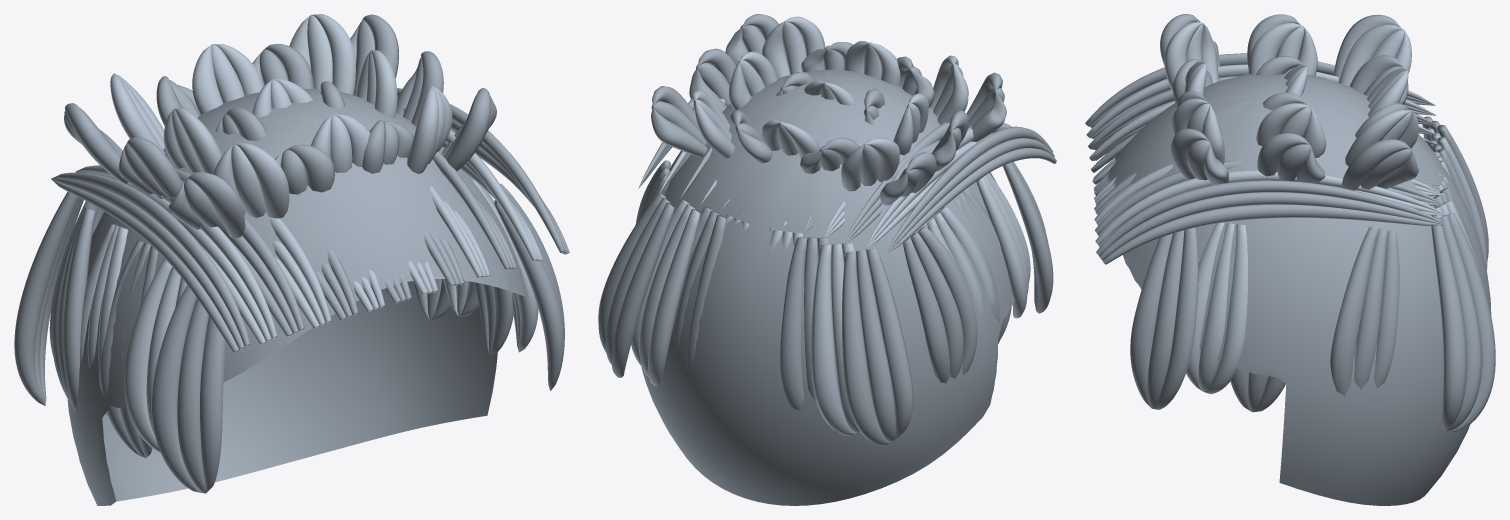
3 renders of one model, left to right at view 1: azimuth 30°, elevation 25°; view 2: azimuth 150°, elevation 25°; view 3: azimuth 270°, elevation 25°, orthographic. The views are drawn at different scales.
Parts seen in each view (by area): view 1: CrownHair_male_ref03, SideHair_-1_0_Strand2, BackHair_00_Strand0, SideHair_-1_0_Strand1, SideHair_-1_1_Strand2, FrontHair_Slick_00_Strand2, SideHair_-1_0_Strand0, SideHair_-1_4_Strand0, SideHair_1_0_Strand2, FrontHair_Slick_00_Strand1, FrontHair_Slick_00_Strand0, CrownHair_Spike_0_1_Strand2 (+55 smaller); view 2: CrownHair_male_ref03, BackHair_00_Strand2, BackHair_01_Strand2, BackHair_00_Strand1, BackHair_00_Strand0, BackHair_07_Strand0, BackHair_02_Strand2, BackHair_08_Strand0, SideHair_-1_4_Strand2, SideHair_-1_0_Strand2, SideHair_-1_4_Strand0, SideHair_-1_4_Strand1 (+47 smaller); view 3: CrownHair_male_ref03, BackHair_08_Strand2, FrontHair_Slick_12_Strand2, FrontHair_Slick_12_Strand0, FrontHair_Slick_12_Strand1, SideHair_1_0_Strand0, SideHair_1_4_Strand2, SideHair_1_0_Strand1, SideHair_1_0_Strand2, BackHair_08_Strand0, SideHair_1_1_Strand0, BackHair_08_Strand1 (+46 smaller).
Boxes of the visible parts, x1,y1,x2,y2 form: CrownHair_male_ref03: (67,88,528,505); SideHair_-1_0_Strand2: (151,285,204,493); BackHair_00_Strand0: (14,191,78,405); SideHair_-1_0_Strand1: (177,298,208,493); SideHair_-1_1_Strand2: (124,259,171,452); FrontHair_Slick_00_Strand2: (51,172,250,346); SideHair_-1_0_Strand0: (200,316,225,492); SideHair_-1_4_Strand0: (63,208,95,411); SideHair_1_0_Strand2: (493,200,564,390); FrontHair_Slick_00_Strand1: (51,178,244,349); FrontHair_Slick_00_Strand0: (51,179,239,352); CrownHair_Spike_0_1_Strand2: (235,143,289,218); CrownHair_male_ref03: (641,69,1014,505); BackHair_00_Strand2: (842,251,890,445); BackHair_01_Strand2: (811,244,856,435); BackHair_00_Strand1: (856,250,895,441); BackHair_00_Strand0: (866,248,913,439); BackHair_07_Strand0: (648,208,700,385); BackHair_02_Strand2: (780,237,807,410); BackHair_08_Strand0: (611,202,674,377); SideHair_-1_4_Strand2: (902,238,949,383); SideHair_-1_0_Strand2: (1002,162,1053,313); SideHair_-1_4_Strand0: (917,226,977,374); SideHair_-1_4_Strand1: (910,232,963,378); CrownHair_male_ref03: (1106,73,1491,505); BackHair_08_Strand2: (1431,218,1467,431); FrontHair_Slick_12_Strand2: (1102,204,1444,264); FrontHair_Slick_12_Strand0: (1096,180,1445,255); FrontHair_Slick_12_Strand1: (1099,192,1444,260); SideHair_1_0_Strand0: (1152,227,1198,409); SideHair_1_4_Strand2: (1330,226,1378,395); SideHair_1_0_Strand1: (1147,230,1184,408); SideHair_1_0_Strand2: (1130,233,1172,407); BackHair_08_Strand0: (1444,213,1495,431); SideHair_1_1_Strand0: (1203,224,1247,394); BackHair_08_Strand1: (1438,215,1482,431).
Size of the model in its own units: 0.7248 by 0.784 by 0.7031.
